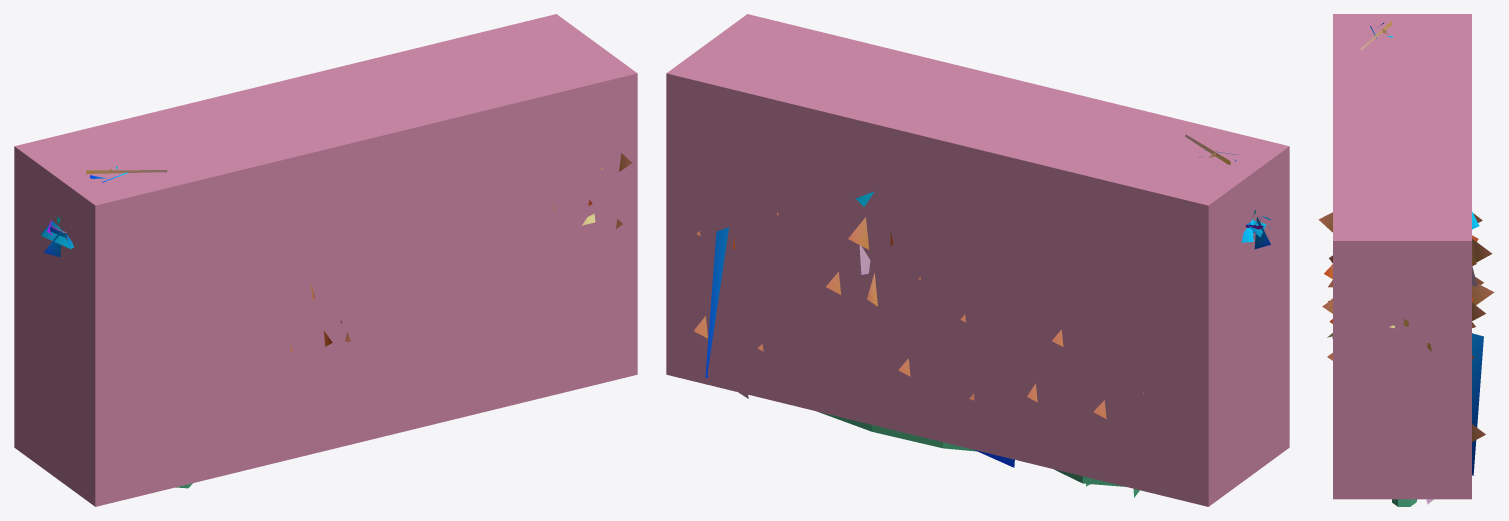
The model's file is oak_beech_wallblocker_long.dae.
3 views of the same model, side by side, from view 1: azimuth 30°, elevation 25°; view 2: azimuth 150°, elevation 25°; view 3: azimuth 270°, elevation 25° (orthographic). The views are drawn at different scales.
Visible parts, largest first — view 1: Untitled, tree_oak_bush_a450; view 2: Untitled, tree_oak_bush_a450, Colmesh-1, tree_oak_bush_a250, tree_oak_bush_a100; view 3: Untitled, tree_oak_bush_a450, tree_oak_bush_a250.
Part boxes in pixels (left/top/right/bottom): Untitled: left=14, top=14, right=637, bottom=506; tree_oak_bush_a450: left=40, top=153, right=631, bottom=351; Untitled: left=666, top=14, right=1289, bottom=506; tree_oak_bush_a450: left=694, top=150, right=1271, bottom=419; Colmesh-1: left=819, top=412, right=1139, bottom=497; tree_oak_bush_a250: left=705, top=134, right=1266, bottom=467; tree_oak_bush_a100: left=708, top=155, right=1256, bottom=342; Untitled: left=1333, top=14, right=1471, bottom=499; tree_oak_bush_a450: left=1318, top=23, right=1494, bottom=504; tree_oak_bush_a250: left=1331, top=21, right=1483, bottom=503.
Size of what is drawn, in the model's own units: 17.68 by 5.59 by 10.8.
